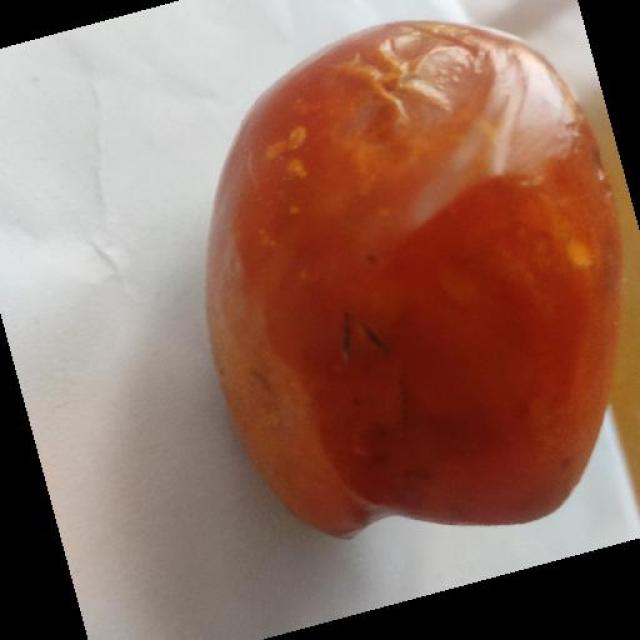Stale_tomato: (216, 26, 579, 587)
